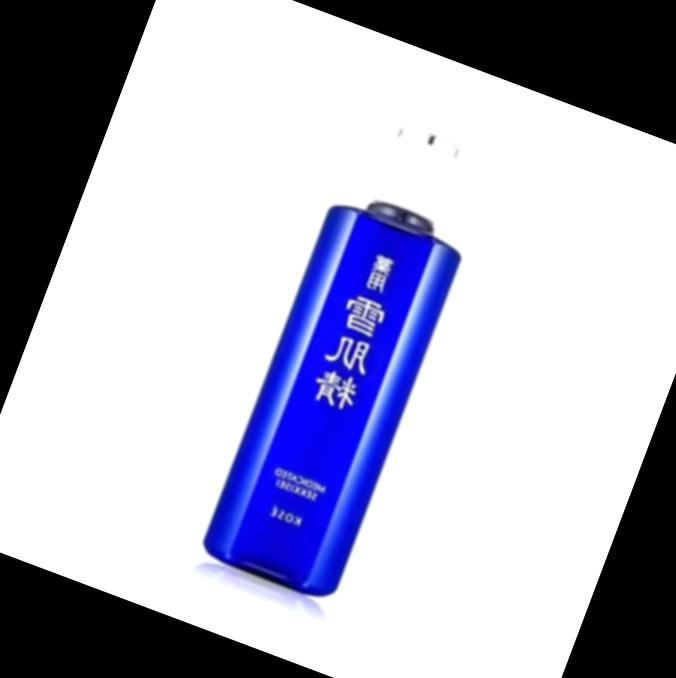cosmetic: (190, 110, 499, 606)
